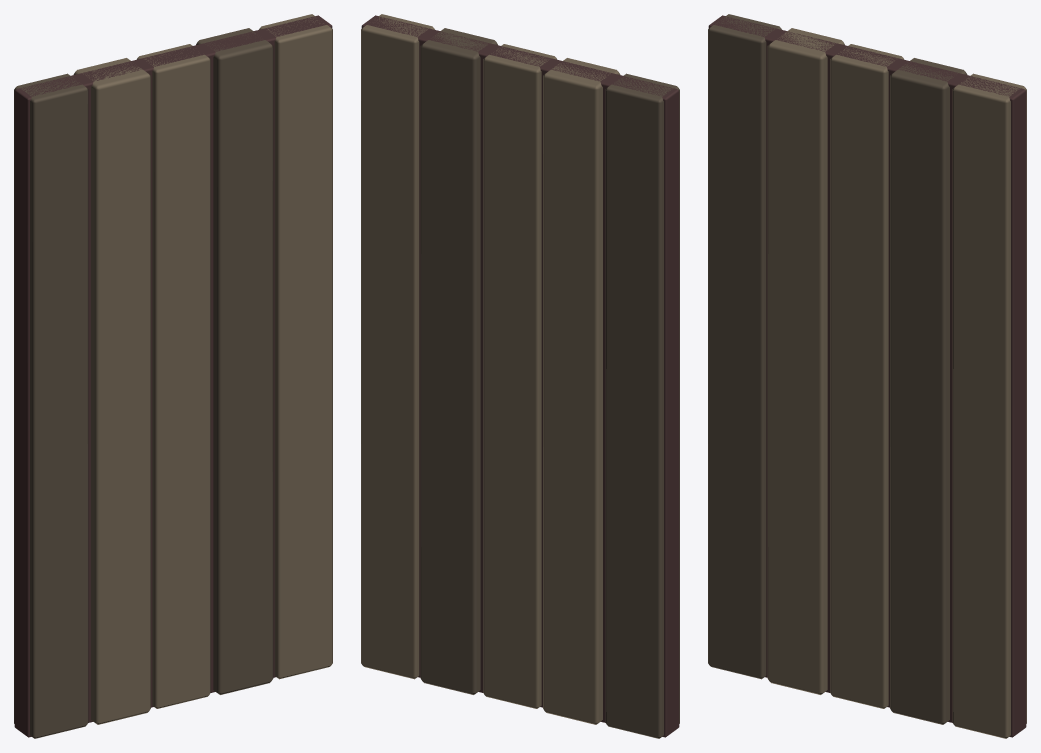
The model's file is ghost-town-wall-boards.0d750993.glb.
3 views of the same model, side by side, from view 1: azimuth 30°, elevation 25°; view 2: azimuth 150°, elevation 25°; view 3: azimuth 330°, elevation 25° (orthographic).
Visible parts, largest first — view 1: body; view 2: body; view 3: body.
Boxes of the visible parts, x1,y1,x2,y2 form: body: (14,14,332,738); body: (361,14,679,738); body: (708,14,1026,738).
Size of the model in its own units: 1 by 2 by 0.14.
